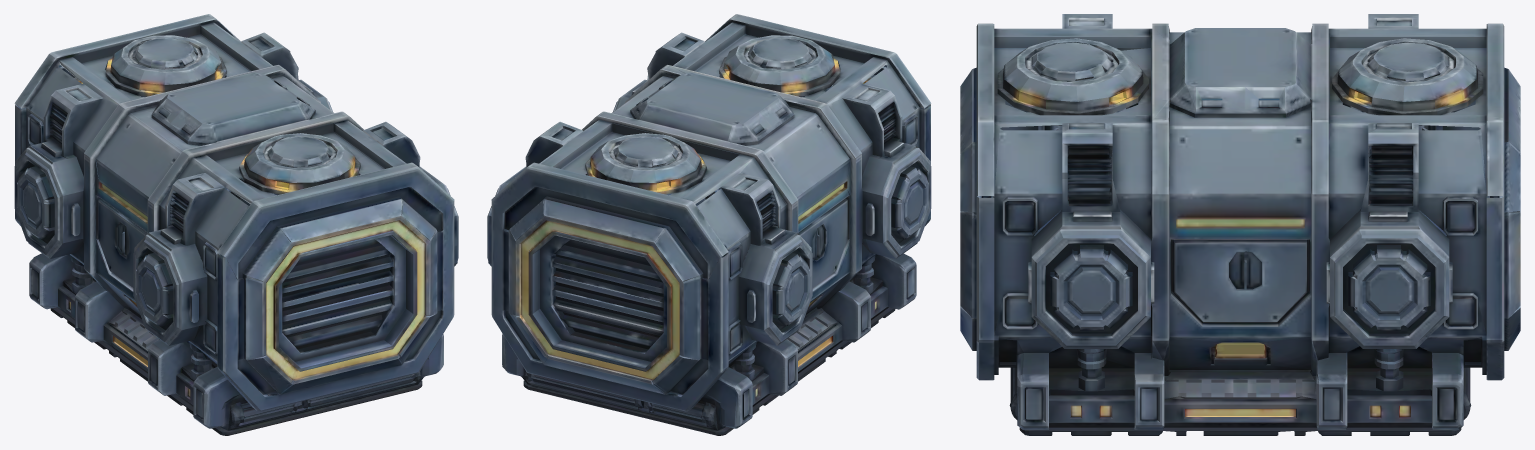
The model's file is supply_cache_LOD0.glb.
3 views of the same model, side by side, from view 1: azimuth 30°, elevation 25°; view 2: azimuth 150°, elevation 25°; view 3: azimuth 270°, elevation 25° (orthographic). The views are drawn at different scales.
Parts seen in each view (by area): view 1: supply_cache_LOD0; view 2: supply_cache_LOD0; view 3: supply_cache_LOD0.
Boxes of the visible parts, x1,y1,x2,y2 form: supply_cache_LOD0: (14,14,458,435); supply_cache_LOD0: (487,14,931,435); supply_cache_LOD0: (960,14,1520,435).
Bounding box in the file's own units: 0.7572 × 0.6202 × 0.9998.
Materials: 1 (1 with a texture image).
